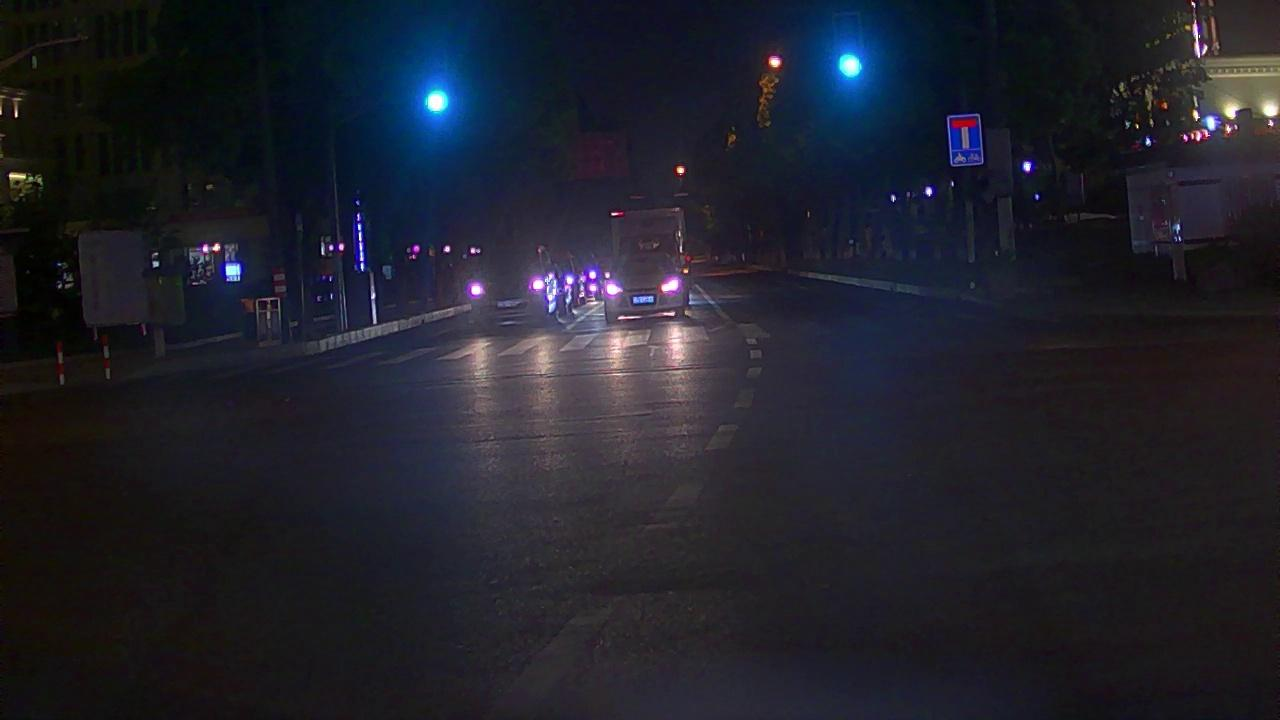traffic_light: (828, 38, 874, 88), (419, 78, 456, 126)
